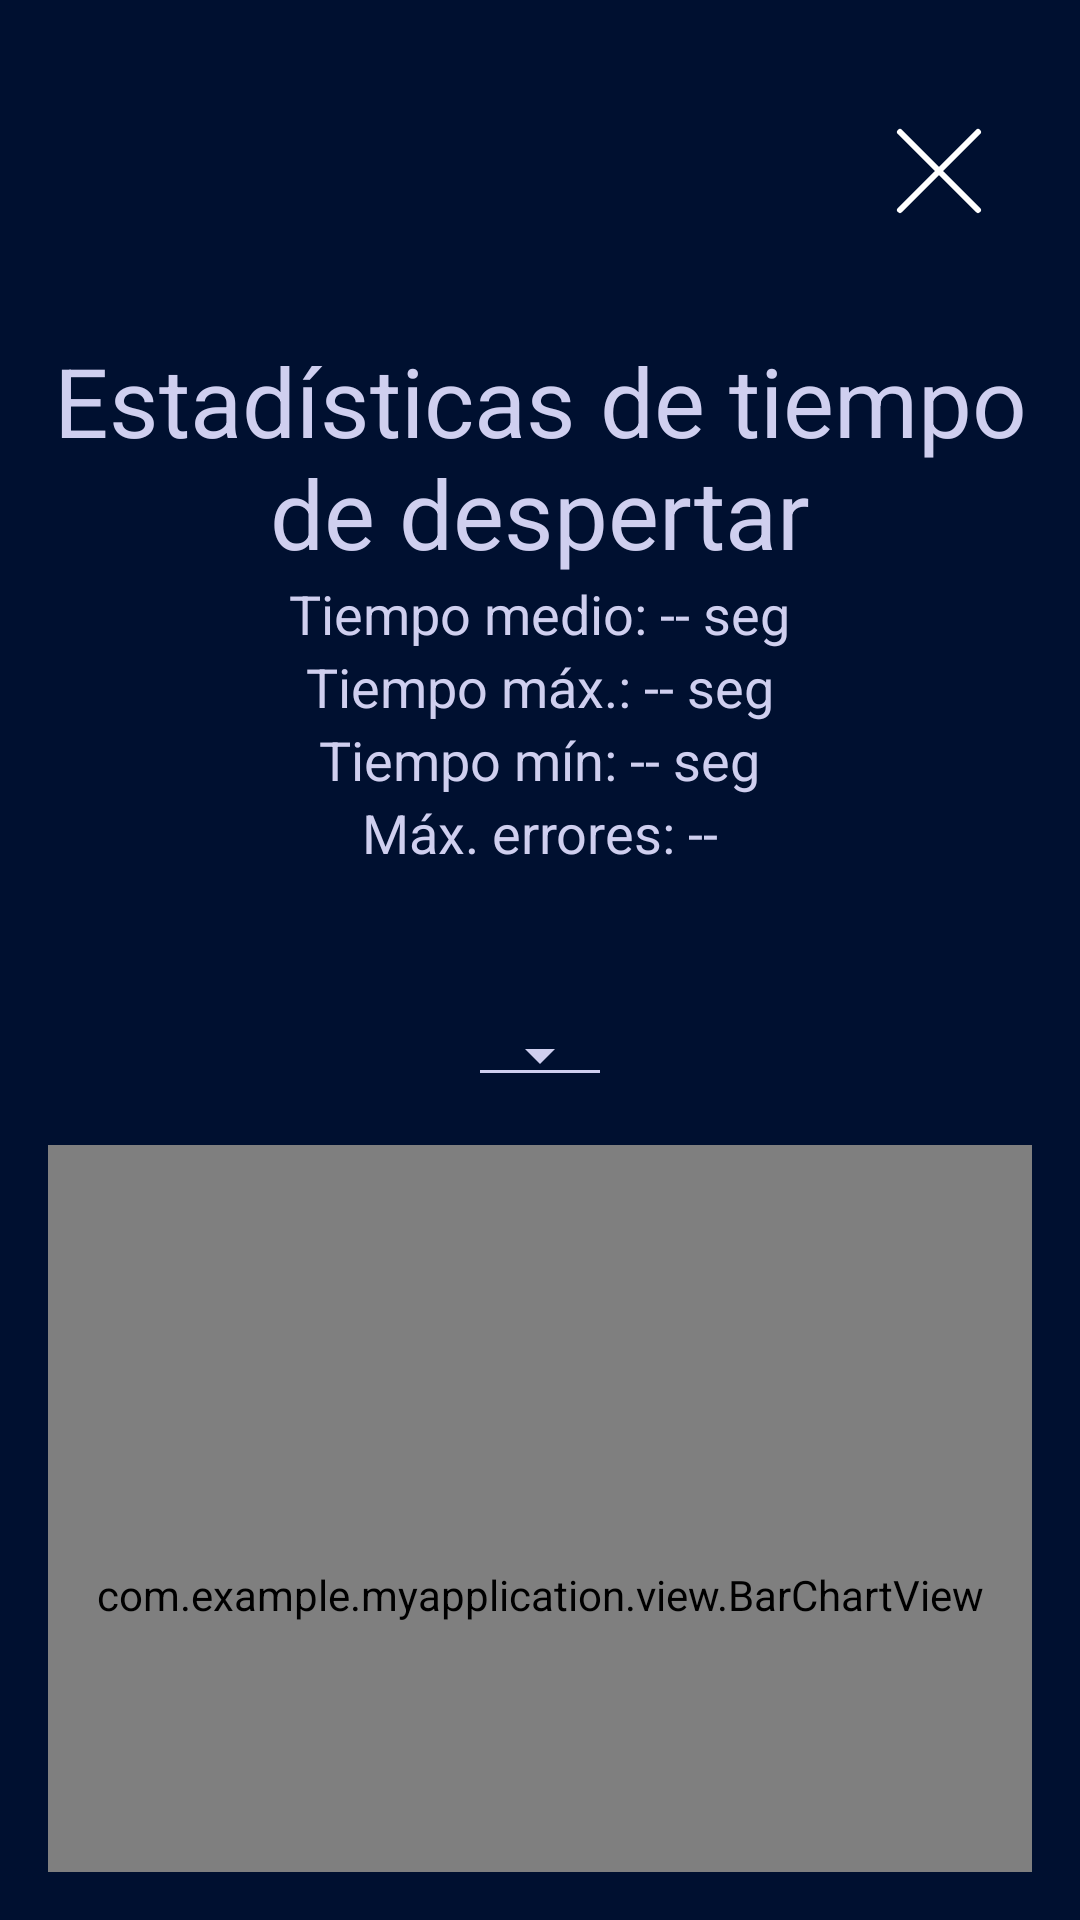

Point at icon controls on the screen. Image size 1080x1920, points as point (x, y).
Close: point (939, 170)
